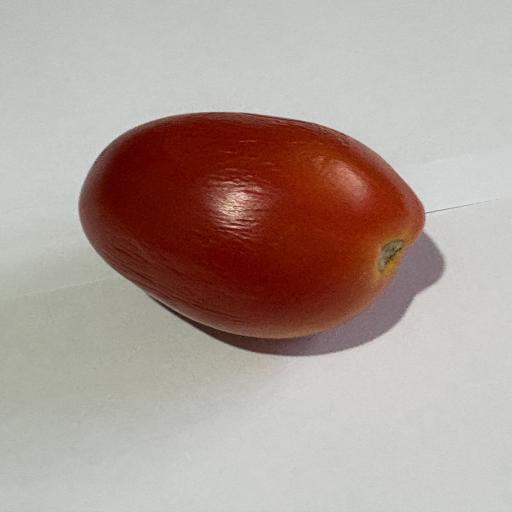spoiled: (79, 112, 424, 338)
